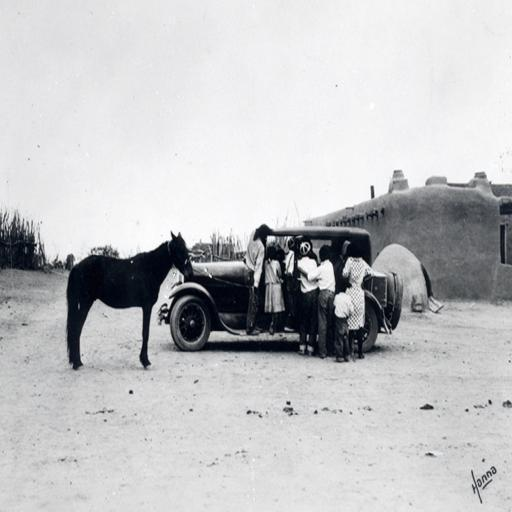horse: (64, 228, 196, 374)
